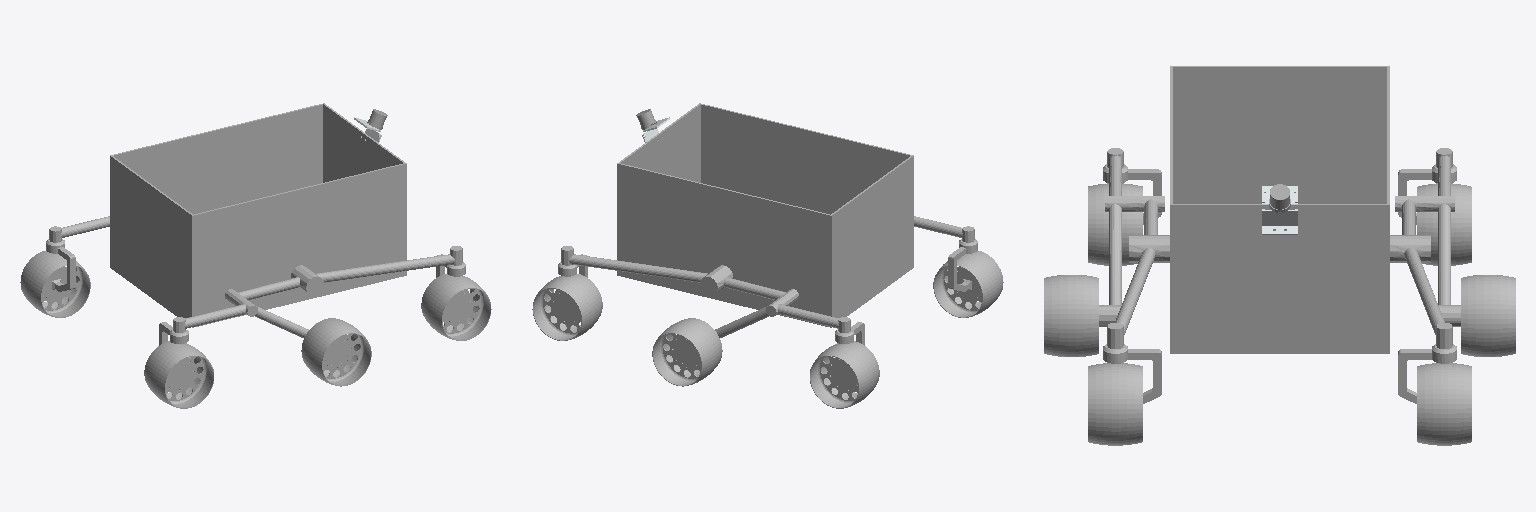
The robot description file, URDF, robot "mars_rover_2":
<?xml version="1.0" encoding="utf-8"?>
<!-- This URDF was automatically created by SolidWorks to URDF Exporter! Originally created by Stephen Brawner ([email redacted]) 
     Commit Version: 1.5.1-0-g916b5db  Build Version: 1.5.7152.31018
     For more information, please see http://wiki.ros.org/sw_urdf_exporter -->
<robot
  name="mars_rover_2">
  <link
    name="Body">
    <inertial>
      <origin
        xyz="-0.00020734 5.5511E-16 -0.3822"
        rpy="0 0 0" />
      <mass
        value="32.918" />
      <inertia
        ixx="4.4731"
        ixy="2.198E-15"
        ixz="-0.00091963"
        iyy="7.3964"
        iyz="-5.1204E-16"
        izz="9.2915" />
    </inertial>
    <visual>
      <origin
        xyz="0 0 0"
        rpy="0 0 0" />
      <geometry>
        <mesh
          filename="package://mars_rover_2/meshes/Body.STL" />
      </geometry>
      <material
        name="">
        <color
          rgba="0.75294 0.75294 0.75294 1" />
      </material>
    </visual>
    <collision>
      <origin
        xyz="0 0 0"
        rpy="0 0 0" />
      <geometry>
        <mesh
          filename="package://mars_rover_2/meshes/Body.STL" />
      </geometry>
    </collision>
  </link>
  <link
    name="LiDARBodyCon">
    <inertial>
      <origin
        xyz="-0.011096 -1.1102E-16 -0.0090905"
        rpy="0 0 0" />
      <mass
        value="0.2293" />
      <inertia
        ixx="0.00036659"
        ixy="2.3915E-19"
        ixz="-4.7613E-05"
        iyy="0.00023526"
        iyz="-2.2376E-21"
        izz="0.00053318" />
    </inertial>
    <visual>
      <origin
        xyz="0 0 0"
        rpy="0 0 0" />
      <geometry>
        <mesh
          filename="package://mars_rover_2/meshes/LiDARBodyCon.STL" />
      </geometry>
      <material
        name="">
        <color
          rgba="0.89804 0.91765 0.92941 1" />
      </material>
    </visual>
    <collision>
      <origin
        xyz="0 0 0"
        rpy="0 0 0" />
      <geometry>
        <mesh
          filename="package://mars_rover_2/meshes/LiDARBodyCon.STL" />
      </geometry>
    </collision>
  </link>
  <joint
    name="f_Body_LiDARBodyCon"
    type="fixed">
    <origin
      xyz="0.64401 0 0"
      rpy="0 0 0" />
    <parent
      link="Body" />
    <child
      link="LiDARBodyCon" />
    <axis
      xyz="0 0 0" />
  </joint>
  <link
    name="LiDARSupport">
    <inertial>
      <origin
        xyz="0.0018554 -1.1102E-16 -0.004"
        rpy="0 0 0" />
      <mass
        value="0.23629" />
      <inertia
        ixx="0.00032757"
        ixy="-9.7461E-20"
        ixz="0"
        iyy="0.00014519"
        iyz="-2.0364E-20"
        izz="0.00047027" />
    </inertial>
    <visual>
      <origin
        xyz="0 0 0"
        rpy="0 0 0" />
      <geometry>
        <mesh
          filename="package://mars_rover_2/meshes/LiDARSupport.STL" />
      </geometry>
      <material
        name="">
        <color
          rgba="0.89804 0.91765 0.92941 1" />
      </material>
    </visual>
    <collision>
      <origin
        xyz="0 0 0"
        rpy="0 0 0" />
      <geometry>
        <mesh
          filename="package://mars_rover_2/meshes/LiDARSupport.STL" />
      </geometry>
    </collision>
  </link>
  <joint
    name="c_LiDARBodyCon_LiDARSupport"
    type="continuous">
    <origin
      xyz="0.0025424 0 0.025757"
      rpy="0 0.44897 0" />
    <parent
      link="LiDARBodyCon" />
    <child
      link="LiDARSupport" />
    <axis
      xyz="0 -1 0" />
  </joint>
  <link
    name="LiDAR">
    <inertial>
      <origin
        xyz="-0.00012666 -9.4179E-09 -0.012924"
        rpy="0 0 0" />
      <mass
        value="0.47584" />
      <inertia
        ixx="0.00040759"
        ixy="-1.4014E-10"
        ixz="-1.3527E-06"
        iyy="0.00040186"
        iyz="-1.5782E-10"
        izz="0.0003397" />
    </inertial>
    <visual>
      <origin
        xyz="0 0 0"
        rpy="0 0 0" />
      <geometry>
        <mesh
          filename="package://mars_rover_2/meshes/LiDAR.STL" />
      </geometry>
      <material
        name="">
        <color
          rgba="0.69804 0.69804 0.69804 1" />
      </material>
    </visual>
    <collision>
      <origin
        xyz="0 0 0"
        rpy="0 0 0" />
      <geometry>
        <mesh
          filename="package://mars_rover_2/meshes/LiDAR.STL" />
      </geometry>
    </collision>
  </link>
  <joint
    name="f_LiDARSupport_LiDAR"
    type="fixed">
    <origin
      xyz="0.0043256 0 0.0504"
      rpy="0 0 0" />
    <parent
      link="LiDARSupport" />
    <child
      link="LiDAR" />
    <axis
      xyz="0 0 0" />
  </joint>
  <link
    name="DiffBar">
    <inertial>
      <origin
        xyz="-2.3069E-08 1.8739E-07 0.043691"
        rpy="0 0 0" />
      <mass
        value="0.60001" />
      <inertia
        ixx="0.0056324"
        ixy="-1.0197E-09"
        ixz="-5.914E-10"
        iyy="0.0002223"
        iyz="-2.9455E-09"
        izz="0.0055642" />
    </inertial>
    <visual>
      <origin
        xyz="0 0 0"
        rpy="0 0 0" />
      <geometry>
        <mesh
          filename="package://mars_rover_2/meshes/DiffBar.STL" />
      </geometry>
      <material
        name="">
        <color
          rgba="0.75294 0.75294 0.75294 1" />
      </material>
    </visual>
    <collision>
      <origin
        xyz="0 0 0"
        rpy="0 0 0" />
      <geometry>
        <mesh
          filename="package://mars_rover_2/meshes/DiffBar.STL" />
      </geometry>
    </collision>
  </link>
  <joint
    name="c_Body_DiffBar"
    type="continuous">
    <origin
      xyz="0.3 0 -0.6"
      rpy="0 0 0" />
    <parent
      link="Body" />
    <child
      link="DiffBar" />
    <axis
      xyz="0 0 -1" />
  </joint>
  <link
    name="RightDiffBarLink">
    <inertial>
      <origin
        xyz="-2.7756E-16 1.1102E-16 0"
        rpy="0 0 0" />
      <mass
        value="0.14953" />
      <inertia
        ixx="1.4863E-05"
        ixy="-8.5654E-20"
        ixz="-1.1279E-19"
        iyy="0.001995"
        iyz="5.1067E-12"
        izz="0.001995" />
    </inertial>
    <visual>
      <origin
        xyz="0 0 0"
        rpy="0 0 0" />
      <geometry>
        <mesh
          filename="package://mars_rover_2/meshes/RightDiffBarLink.STL" />
      </geometry>
      <material
        name="">
        <color
          rgba="0.75294 0.75294 0.75294 1" />
      </material>
    </visual>
    <collision>
      <origin
        xyz="0 0 0"
        rpy="0 0 0" />
      <geometry>
        <mesh
          filename="package://mars_rover_2/meshes/RightDiffBarLink.STL" />
      </geometry>
    </collision>
  </link>
  <joint
    name="c_DiffBar_RightDiffBarLink"
    type="continuous">
    <origin
      xyz="-0.15 -0.2 0.045"
      rpy="0 0 0" />
    <parent
      link="DiffBar" />
    <child
      link="RightDiffBarLink" />
    <axis
      xyz="1 0 0" />
  </joint>
  <link
    name="LeftDiffBarLink">
    <inertial>
      <origin
        xyz="1.6653E-16 0 0"
        rpy="0 0 0" />
      <mass
        value="0.14953" />
      <inertia
        ixx="1.4863E-05"
        ixy="1.3794E-20"
        ixz="1.003E-19"
        iyy="0.001995"
        iyz="1.3525E-11"
        izz="0.001995" />
    </inertial>
    <visual>
      <origin
        xyz="0 0 0"
        rpy="0 0 0" />
      <geometry>
        <mesh
          filename="package://mars_rover_2/meshes/LeftDiffBarLink.STL" />
      </geometry>
      <material
        name="">
        <color
          rgba="0.75294 0.75294 0.75294 1" />
      </material>
    </visual>
    <collision>
      <origin
        xyz="0 0 0"
        rpy="0 0 0" />
      <geometry>
        <mesh
          filename="package://mars_rover_2/meshes/LeftDiffBarLink.STL" />
      </geometry>
    </collision>
  </link>
  <joint
    name="c_DiffBar_LeftDiffBarLink"
    type="continuous">
    <origin
      xyz="-0.15 0.2 0.045"
      rpy="0 0 0" />
    <parent
      link="DiffBar" />
    <child
      link="LeftDiffBarLink" />
    <axis
      xyz="1 0 0" />
  </joint>
  <link
    name="RightMainRocket">
    <inertial>
      <origin
        xyz="0.11317 -0.083287 -0.0033099"
        rpy="0 0 0" />
      <mass
        value="3.9698" />
      <inertia
        ixx="0.029658"
        ixy="0.058353"
        ixz="-6.7156E-05"
        iyy="0.40048"
        iyz="0.0010399"
        izz="0.42705" />
    </inertial>
    <visual>
      <origin
        xyz="0 0 0"
        rpy="0 0 0" />
      <geometry>
        <mesh
          filename="package://mars_rover_2/meshes/RightMainRocket.STL" />
      </geometry>
      <material
        name="">
        <color
          rgba="0.75294 0.75294 0.75294 1" />
      </material>
    </visual>
    <collision>
      <origin
        xyz="0 0 0"
        rpy="0 0 0" />
      <geometry>
        <mesh
          filename="package://mars_rover_2/meshes/RightMainRocket.STL" />
      </geometry>
    </collision>
  </link>
  <joint
    name="c_Body_RightMainRocket"
    type="continuous">
    <origin
      xyz="0 -0.4 -0.455"
      rpy="0 0 0" />
    <parent
      link="Body" />
    <child
      link="RightMainRocket" />
    <axis
      xyz="0 -1 0" />
  </joint>
  <link
    name="BogieRF">
    <inertial>
      <origin
        xyz="1.1102E-16 0.043694 -0.10834"
        rpy="0 0 0" />
      <mass
        value="0.97559" />
      <inertia
        ixx="0.012957"
        ixy="5.7596E-19"
        ixz="7.2649E-18"
        iyy="0.0096917"
        iyz="0.00058661"
        izz="0.0043433" />
    </inertial>
    <visual>
      <origin
        xyz="0 0 0"
        rpy="0 0 0" />
      <geometry>
        <mesh
          filename="package://mars_rover_2/meshes/BogieRF.STL" />
      </geometry>
      <material
        name="">
        <color
          rgba="0.75294 0.75294 0.75294 1" />
      </material>
    </visual>
    <collision>
      <origin
        xyz="0 0 0"
        rpy="0 0 0" />
      <geometry>
        <mesh
          filename="package://mars_rover_2/meshes/BogieRF.STL" />
      </geometry>
    </collision>
  </link>
  <joint
    name="c_RightMainRocket_BogieRF"
    type="continuous">
    <origin
      xyz="0.76252 -0.2 -0.035"
      rpy="0 0 0" />
    <parent
      link="RightMainRocket" />
    <child
      link="BogieRF" />
    <axis
      xyz="0 0 -1" />
  </joint>
  <link
    name="WheelRF">
    <inertial>
      <origin
        xyz="8.8818E-16 0 -2.3315E-15"
        rpy="0 0 0" />
      <mass
        value="0.78656" />
      <inertia
        ixx="0.009468"
        ixy="1.973E-20"
        ixz="-7.0807E-18"
        iyy="0.015284"
        iyz="-1.8111E-18"
        izz="0.009468" />
    </inertial>
    <visual>
      <origin
        xyz="0 0 0"
        rpy="0 0 0" />
      <geometry>
        <mesh
          filename="package://mars_rover_2/meshes/WheelRF.STL" />
      </geometry>
      <material
        name="">
        <color
          rgba="0.75294 0.75294 0.75294 1" />
      </material>
    </visual>
    <collision>
      <origin
        xyz="0 0 0"
        rpy="0 0 0" />
      <geometry>
        <mesh
          filename="package://mars_rover_2/meshes/WheelRF.STL" />
      </geometry>
    </collision>
  </link>
  <joint
    name="c_BogieRF_WheelRF"
    type="continuous">
    <origin
      xyz="0 0 -0.235"
      rpy="0 0 0" />
    <parent
      link="BogieRF" />
    <child
      link="WheelRF" />
    <axis
      xyz="0 1 0" />
  </joint>
  <link
    name="RightViceRocket">
    <inertial>
      <origin
        xyz="0.14469 -0.10519 -0.13316"
        rpy="0 0 0" />
      <mass
        value="3.1788" />
      <inertia
        ixx="0.057106"
        ixy="0.024643"
        ixz="0.091961"
        iyy="0.26287"
        iyz="-0.013339"
        izz="0.22749" />
    </inertial>
    <visual>
      <origin
        xyz="0 0 0"
        rpy="0 0 0" />
      <geometry>
        <mesh
          filename="package://mars_rover_2/meshes/RightViceRocket.STL" />
      </geometry>
      <material
        name="">
        <color
          rgba="0.75294 0.75294 0.75294 1" />
      </material>
    </visual>
    <collision>
      <origin
        xyz="0 0 0"
        rpy="0 0 0" />
      <geometry>
        <mesh
          filename="package://mars_rover_2/meshes/RightViceRocket.STL" />
      </geometry>
    </collision>
  </link>
  <joint
    name="c_RightMainRocket_RightViceRocket"
    type="continuous">
    <origin
      xyz="-0.4 -0.12 -0.005"
      rpy="0 0 0" />
    <parent
      link="RightMainRocket" />
    <child
      link="RightViceRocket" />
    <axis
      xyz="0 -1 0" />
  </joint>
  <link
    name="WheelRM">
    <inertial>
      <origin
        xyz="2.387E-15 -5.9952E-15 2.2204E-16"
        rpy="0 0 0" />
      <mass
        value="0.78656" />
      <inertia
        ixx="0.009468"
        ixy="6.6562E-22"
        ixz="2.2238E-18"
        iyy="0.015284"
        iyz="7.6463E-22"
        izz="0.009468" />
    </inertial>
    <visual>
      <origin
        xyz="0 0 0"
        rpy="0 0 0" />
      <geometry>
        <mesh
          filename="package://mars_rover_2/meshes/WheelRM.STL" />
      </geometry>
      <material
        name="">
        <color
          rgba="0.75294 0.75294 0.75294 1" />
      </material>
    </visual>
    <collision>
      <origin
        xyz="0 0 0"
        rpy="0 0 0" />
      <geometry>
        <mesh
          filename="package://mars_rover_2/meshes/WheelRM.STL" />
      </geometry>
    </collision>
  </link>
  <joint
    name="c_RightViceRocket_WheelRM"
    type="continuous">
    <origin
      xyz="0.4 -0.239 -0.265"
      rpy="0 0 0" />
    <parent
      link="RightViceRocket" />
    <child
      link="WheelRM" />
    <axis
      xyz="0 1 0" />
  </joint>
  <link
    name="BogieRR">
    <inertial>
      <origin
        xyz="0 0.043694 -0.10834"
        rpy="0 0 0" />
      <mass
        value="0.97559" />
      <inertia
        ixx="0.012957"
        ixy="1.5156E-18"
        ixz="5.1012E-18"
        iyy="0.0096917"
        iyz="0.00058661"
        izz="0.0043433" />
    </inertial>
    <visual>
      <origin
        xyz="0 0 0"
        rpy="0 0 0" />
      <geometry>
        <mesh
          filename="package://mars_rover_2/meshes/BogieRR.STL" />
      </geometry>
      <material
        name="">
        <color
          rgba="0.75294 0.75294 0.75294 1" />
      </material>
    </visual>
    <collision>
      <origin
        xyz="0 0 0"
        rpy="0 0 0" />
      <geometry>
        <mesh
          filename="package://mars_rover_2/meshes/BogieRR.STL" />
      </geometry>
    </collision>
  </link>
  <joint
    name="c_RightViceRocket_BogieRR"
    type="continuous">
    <origin
      xyz="-0.388 -0.08 -0.03"
      rpy="0 0 0" />
    <parent
      link="RightViceRocket" />
    <child
      link="BogieRR" />
    <axis
      xyz="0 0 -1" />
  </joint>
  <link
    name="WheelRR">
    <inertial>
      <origin
        xyz="2.4425E-15 2.2204E-16 4.4409E-16"
        rpy="0 0 0" />
      <mass
        value="0.78656" />
      <inertia
        ixx="0.009468"
        ixy="1.3111E-18"
        ixz="2.4375E-18"
        iyy="0.015284"
        iyz="-7.9413E-19"
        izz="0.009468" />
    </inertial>
    <visual>
      <origin
        xyz="0 0 0"
        rpy="0 0 0" />
      <geometry>
        <mesh
          filename="package://mars_rover_2/meshes/WheelRR.STL" />
      </geometry>
      <material
        name="">
        <color
          rgba="0.75294 0.75294 0.75294 1" />
      </material>
    </visual>
    <collision>
      <origin
        xyz="0 0 0"
        rpy="0 0 0" />
      <geometry>
        <mesh
          filename="package://mars_rover_2/meshes/WheelRR.STL" />
      </geometry>
    </collision>
  </link>
  <joint
    name="c_BogieRR_WheelRR"
    type="continuous">
    <origin
      xyz="0 0 -0.235"
      rpy="0 0 0" />
    <parent
      link="BogieRR" />
    <child
      link="WheelRR" />
    <axis
      xyz="0 1 0" />
  </joint>
  <link
    name="LeftMainRocket">
    <inertial>
      <origin
        xyz="0.11317 0.083287 -0.0033099"
        rpy="0 0 0" />
      <mass
        value="3.9698" />
      <inertia
        ixx="0.029658"
        ixy="-0.058353"
        ixz="-6.7156E-05"
        iyy="0.40048"
        iyz="-0.0010399"
        izz="0.42705" />
    </inertial>
    <visual>
      <origin
        xyz="0 0 0"
        rpy="0 0 0" />
      <geometry>
        <mesh
          filename="package://mars_rover_2/meshes/LeftMainRocket.STL" />
      </geometry>
      <material
        name="">
        <color
          rgba="0.75294 0.75294 0.75294 1" />
      </material>
    </visual>
    <collision>
      <origin
        xyz="0 0 0"
        rpy="0 0 0" />
      <geometry>
        <mesh
          filename="package://mars_rover_2/meshes/LeftMainRocket.STL" />
      </geometry>
    </collision>
  </link>
  <joint
    name="c_Body_LeftMainRocket"
    type="continuous">
    <origin
      xyz="0 0.4 -0.455"
      rpy="0 0 0" />
    <parent
      link="Body" />
    <child
      link="LeftMainRocket" />
    <axis
      xyz="0 1 0" />
  </joint>
  <link
    name="BogieLF">
    <inertial>
      <origin
        xyz="-1.0103E-14 -0.043694 -0.10834"
        rpy="0 0 0" />
      <mass
        value="0.97559" />
      <inertia
        ixx="0.012957"
        ixy="-7.4927E-16"
        ixz="-1.4026E-16"
        iyy="0.0096917"
        iyz="-0.00058661"
        izz="0.0043433" />
    </inertial>
    <visual>
      <origin
        xyz="0 0 0"
        rpy="0 0 0" />
      <geometry>
        <mesh
          filename="package://mars_rover_2/meshes/BogieLF.STL" />
      </geometry>
      <material
        name="">
        <color
          rgba="0.75294 0.75294 0.75294 1" />
      </material>
    </visual>
    <collision>
      <origin
        xyz="0 0 0"
        rpy="0 0 0" />
      <geometry>
        <mesh
          filename="package://mars_rover_2/meshes/BogieLF.STL" />
      </geometry>
    </collision>
  </link>
  <joint
    name="c_LeftMainRocket_BogieLF"
    type="continuous">
    <origin
      xyz="0.76252 0.2 -0.035"
      rpy="0 0 0" />
    <parent
      link="LeftMainRocket" />
    <child
      link="BogieLF" />
    <axis
      xyz="0 0 -1" />
  </joint>
  <link
    name="WheelLF">
    <inertial>
      <origin
        xyz="-2.609E-15 -9.8532E-16 -2.2204E-16"
        rpy="0 0 0" />
      <mass
        value="0.78656" />
      <inertia
        ixx="0.009468"
        ixy="4.9247E-16"
        ixz="1.8014E-18"
        iyy="0.015284"
        iyz="4.3225E-16"
        izz="0.009468" />
    </inertial>
    <visual>
      <origin
        xyz="0 0 0"
        rpy="0 0 0" />
      <geometry>
        <mesh
          filename="package://mars_rover_2/meshes/WheelLF.STL" />
      </geometry>
      <material
        name="">
        <color
          rgba="0.75294 0.75294 0.75294 1" />
      </material>
    </visual>
    <collision>
      <origin
        xyz="0 0 0"
        rpy="0 0 0" />
      <geometry>
        <mesh
          filename="package://mars_rover_2/meshes/WheelLF.STL" />
      </geometry>
    </collision>
  </link>
  <joint
    name="c_BogieLF_WheelLF"
    type="continuous">
    <origin
      xyz="0 0 -0.235"
      rpy="0 0 0" />
    <parent
      link="BogieLF" />
    <child
      link="WheelLF" />
    <axis
      xyz="0 -1 0" />
  </joint>
  <link
    name="LeftViceRocket">
    <inertial>
      <origin
        xyz="0.14469 0.10519 -0.13316"
        rpy="0 0 0" />
      <mass
        value="3.1787" />
      <inertia
        ixx="0.057103"
        ixy="-0.024643"
        ixz="0.091959"
        iyy="0.26287"
        iyz="0.013339"
        izz="0.22749" />
    </inertial>
    <visual>
      <origin
        xyz="0 0 0"
        rpy="0 0 0" />
      <geometry>
        <mesh
          filename="package://mars_rover_2/meshes/LeftViceRocket.STL" />
      </geometry>
      <material
        name="">
        <color
          rgba="0.75294 0.75294 0.75294 1" />
      </material>
    </visual>
    <collision>
      <origin
        xyz="0 0 0"
        rpy="0 0 0" />
      <geometry>
        <mesh
          filename="package://mars_rover_2/meshes/LeftViceRocket.STL" />
      </geometry>
    </collision>
  </link>
  <joint
    name="c_LeftMainRocket_LeftViceRocket"
    type="continuous">
    <origin
      xyz="-0.4 0.12 -0.005"
      rpy="0 0 0" />
    <parent
      link="LeftMainRocket" />
    <child
      link="LeftViceRocket" />
    <axis
      xyz="0 1 0" />
  </joint>
  <link
    name="WheelLM">
    <inertial>
      <origin
        xyz="2.5535E-15 -1.0825E-15 -4.4409E-16"
        rpy="0 0 0" />
      <mass
        value="0.78656" />
      <inertia
        ixx="0.009468"
        ixy="1.1249E-17"
        ixz="-2.2339E-18"
        iyy="0.015284"
        iyz="-1.6612E-18"
        izz="0.009468" />
    </inertial>
    <visual>
      <origin
        xyz="0 0 0"
        rpy="0 0 0" />
      <geometry>
        <mesh
          filename="package://mars_rover_2/meshes/WheelLM.STL" />
      </geometry>
      <material
        name="">
        <color
          rgba="0.75294 0.75294 0.75294 1" />
      </material>
    </visual>
    <collision>
      <origin
        xyz="0 0 0"
        rpy="0 0 0" />
      <geometry>
        <mesh
          filename="package://mars_rover_2/meshes/WheelLM.STL" />
      </geometry>
    </collision>
  </link>
  <joint
    name="c_LeftViceRocket_WheelLM"
    type="continuous">
    <origin
      xyz="0.4 0.239 -0.265"
      rpy="0 0 0" />
    <parent
      link="LeftViceRocket" />
    <child
      link="WheelLM" />
    <axis
      xyz="0 -1 0" />
  </joint>
  <link
    name="BogieLR">
    <inertial>
      <origin
        xyz="0 -0.043694 -0.10834"
        rpy="0 0 0" />
      <mass
        value="0.97559" />
      <inertia
        ixx="0.012957"
        ixy="1.5794E-18"
        ixz="-5.1731E-18"
        iyy="0.0096917"
        iyz="-0.00058661"
        izz="0.0043433" />
    </inertial>
    <visual>
      <origin
        xyz="0 0 0"
        rpy="0 0 0" />
      <geometry>
        <mesh
          filename="package://mars_rover_2/meshes/BogieLR.STL" />
      </geometry>
      <material
        name="">
        <color
          rgba="0.75294 0.75294 0.75294 1" />
      </material>
    </visual>
    <collision>
      <origin
        xyz="0 0 0"
        rpy="0 0 0" />
      <geometry>
        <mesh
          filename="package://mars_rover_2/meshes/BogieLR.STL" />
      </geometry>
    </collision>
  </link>
  <joint
    name="c_LeftViceRocket_BogieLR"
    type="continuous">
    <origin
      xyz="-0.388 0.08 -0.03"
      rpy="0 0 0" />
    <parent
      link="LeftViceRocket" />
    <child
      link="BogieLR" />
    <axis
      xyz="0 0 -1" />
  </joint>
  <link
    name="WheelLR">
    <inertial>
      <origin
        xyz="2.4425E-15 -1.3878E-17 7.7716E-16"
        rpy="0 0 0" />
      <mass
        value="0.78656" />
      <inertia
        ixx="0.009468"
        ixy="6.2539E-18"
        ixz="3.9328E-18"
        iyy="0.015284"
        iyz="1.8192E-18"
        izz="0.009468" />
    </inertial>
    <visual>
      <origin
        xyz="0 0 0"
        rpy="0 0 0" />
      <geometry>
        <mesh
          filename="package://mars_rover_2/meshes/WheelLR.STL" />
      </geometry>
      <material
        name="">
        <color
          rgba="0.75294 0.75294 0.75294 1" />
      </material>
    </visual>
    <collision>
      <origin
        xyz="0 0 0"
        rpy="0 0 0" />
      <geometry>
        <mesh
          filename="package://mars_rover_2/meshes/WheelLR.STL" />
      </geometry>
    </collision>
  </link>
  <joint
    name="c_BogieLR_WheelLR"
    type="continuous">
    <origin
      xyz="0 0 -0.235"
      rpy="0 0 0" />
    <parent
      link="BogieLR" />
    <child
      link="WheelLR" />
    <axis
      xyz="0 -1 0" />
  </joint>
</robot>

--- Facts derived from the render (not from the file) ---
3 views of the same robot in one strip: view 1: azimuth 30°, elevation 25°; view 2: azimuth 150°, elevation 25°; view 3: azimuth 270°, elevation 25° (orthographic).
Robot: mars_rover_2 — 21 links, 20 joints (18 continuous, 2 fixed); root link Body; default pose: all joints at 0.
Visible links, largest first — view 1: Body, WheelRM, WheelRR, WheelRF, RightMainRocket, WheelLR, RightViceRocket, BogieLR, BogieRR, BogieRF, LeftViceRocket; view 2: Body, WheelLM, WheelLR, WheelLF, LeftMainRocket, WheelRR, LeftViceRocket, BogieRR, BogieLR, BogieLF, RightViceRocket; view 3: Body, WheelRF, WheelLF, WheelRM, WheelLM, RightMainRocket, LeftMainRocket, RightViceRocket, LeftViceRocket, WheelRR, WheelLR, BogieRF (+5 smaller).
Boxes of the visible links, bbox=[...] form: Body: bbox=[110, 103, 406, 327]; WheelRM: bbox=[301, 318, 371, 386]; WheelRR: bbox=[144, 341, 213, 408]; WheelRF: bbox=[421, 274, 491, 340]; RightMainRocket: bbox=[225, 246, 462, 305]; WheelLR: bbox=[20, 251, 90, 317]; RightViceRocket: bbox=[173, 297, 348, 367]; BogieLR: bbox=[42, 239, 75, 301]; BogieRR: bbox=[159, 322, 193, 387]; BogieRF: bbox=[436, 254, 470, 321]; LeftViceRocket: bbox=[49, 216, 109, 242]; Body: bbox=[617, 103, 913, 327]; WheelLM: bbox=[652, 318, 722, 386]; WheelLR: bbox=[810, 341, 879, 408]; WheelLF: bbox=[532, 274, 602, 340]; LeftMainRocket: bbox=[561, 246, 798, 305]; WheelRR: bbox=[933, 251, 1003, 317]; LeftViceRocket: bbox=[675, 297, 850, 367]; BogieRR: bbox=[948, 239, 981, 301]; BogieLR: bbox=[832, 322, 864, 389]; BogieLF: bbox=[553, 254, 587, 321]; RightViceRocket: bbox=[914, 216, 974, 242]; Body: bbox=[1170, 66, 1389, 353]; WheelRF: bbox=[1088, 363, 1142, 445]; WheelLF: bbox=[1417, 363, 1471, 445]; WheelRM: bbox=[1044, 275, 1098, 356]; WheelLM: bbox=[1461, 275, 1515, 356]; RightMainRocket: bbox=[1107, 196, 1169, 348]; LeftMainRocket: bbox=[1390, 196, 1452, 348]; RightViceRocket: bbox=[1099, 148, 1136, 326]; LeftViceRocket: bbox=[1423, 148, 1460, 326]; WheelRR: bbox=[1088, 183, 1142, 265]; WheelLR: bbox=[1417, 183, 1471, 265]; BogieRF: bbox=[1103, 344, 1161, 403].
Size in the robot's own frame: 1.85 by 1.72 by 0.9845 metres.
Meshes: 21 distinct files referenced, 21 mesh visuals loaded (21 binary STL).
